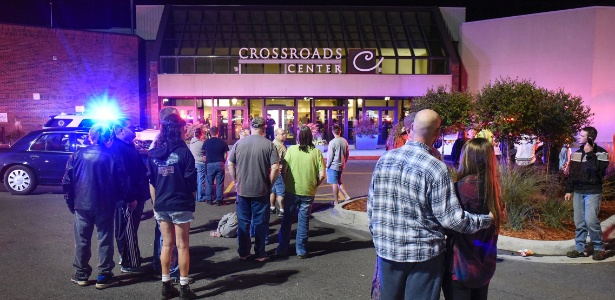Humano: (364, 105, 460, 300), (61, 123, 127, 287), (449, 138, 508, 300), (152, 115, 199, 299), (229, 116, 282, 265), (559, 125, 615, 263), (109, 117, 147, 273), (282, 125, 324, 260), (324, 122, 355, 208), (205, 125, 229, 205), (268, 129, 288, 215), (188, 126, 208, 202)
